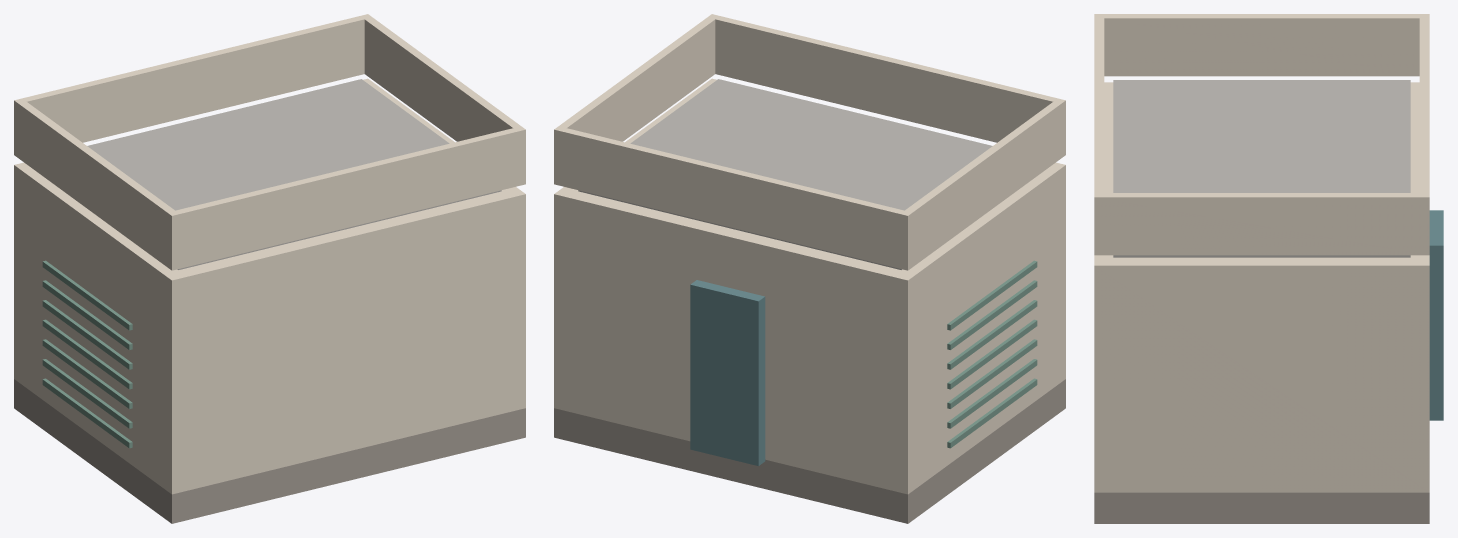
File: kirana.glb
3 renders of one model, left to right at view 1: azimuth 30°, elevation 25°; view 2: azimuth 150°, elevation 25°; view 3: azimuth 270°, elevation 25°, orthographic. The views are drawn at different scales.
Parts seen in each view (by area): view 1: lib_kirana; view 2: lib_kirana; view 3: lib_kirana.
Part boxes in pixels (x1,y1,x2,y2): lib_kirana: [14, 14, 525, 523]; lib_kirana: [554, 14, 1065, 523]; lib_kirana: [1094, 14, 1443, 523].
Bounding box in the file's own units: 5.39 × 4.39 × 4.25.
